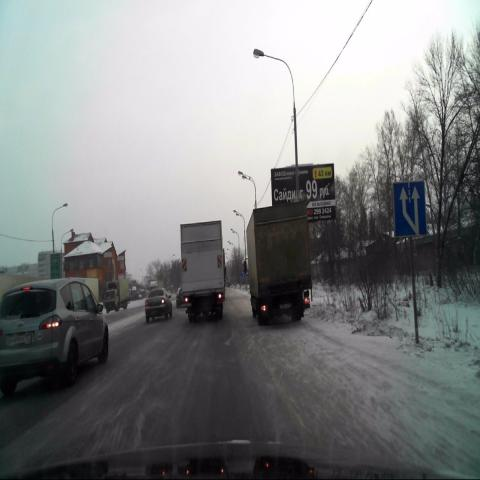5_15_3: (393, 181, 426, 237)
